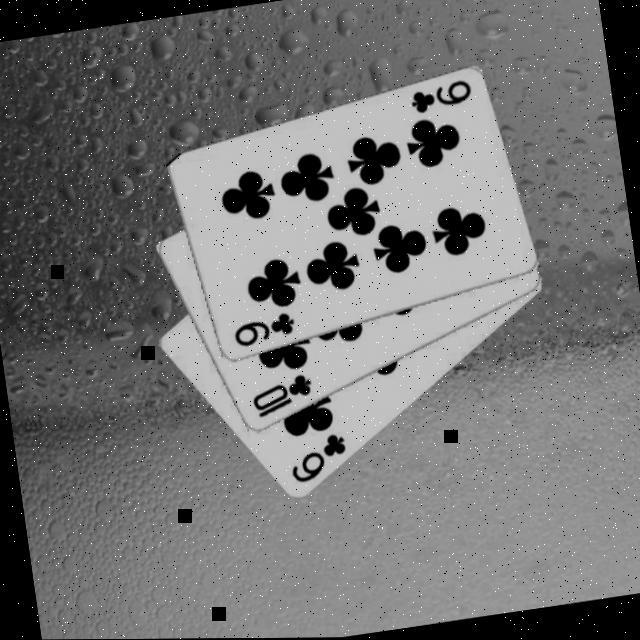10C: (249, 372, 320, 425)
6C: (286, 432, 356, 489)
9C: (230, 311, 302, 353), (406, 78, 478, 120)
